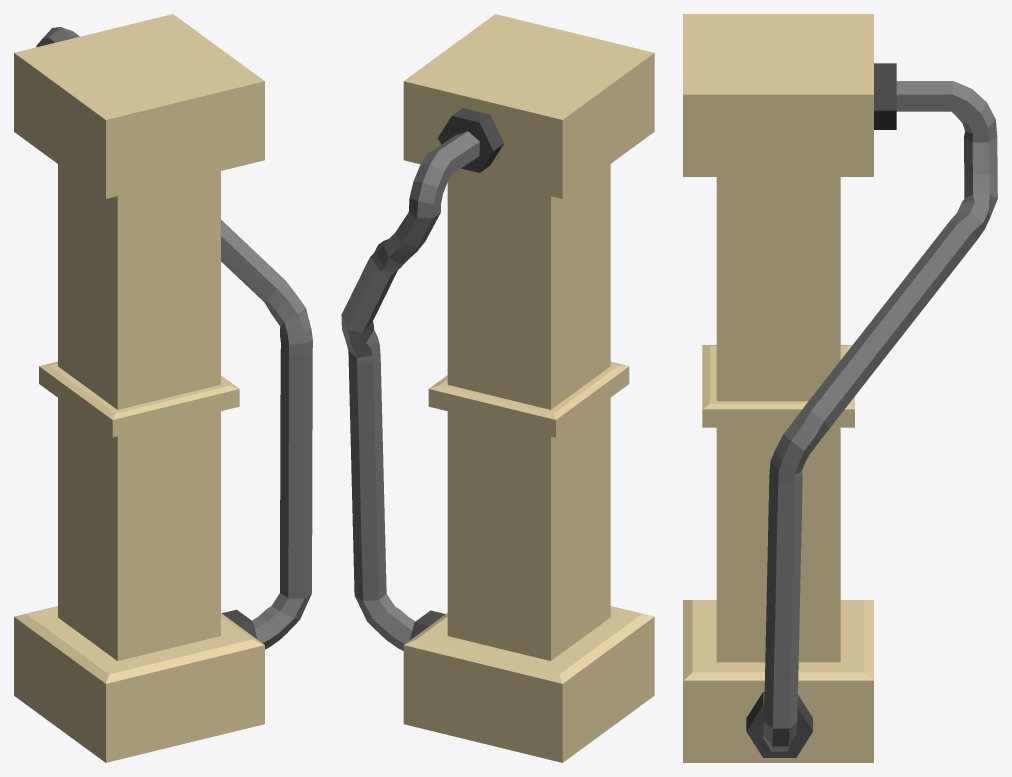
The model's file is ColumnWithPipe.fbx.
The picture shows the model from 3 angles, left to right: view 1: azimuth 30°, elevation 25°; view 2: azimuth 150°, elevation 25°; view 3: azimuth 270°, elevation 25°; orthographic projection. The views are drawn at different scales.
Parts seen in each view (by area): view 1: Column/Pipes; view 2: Column/Pipes; view 3: Column/Pipes.
Boxes of the visible parts, bbox=[...] form: Column/Pipes: bbox=[14, 14, 312, 762]; Column/Pipes: bbox=[341, 14, 654, 762]; Column/Pipes: bbox=[683, 14, 997, 762].
Size of the model in its own units: 319 by 773 by 330.
